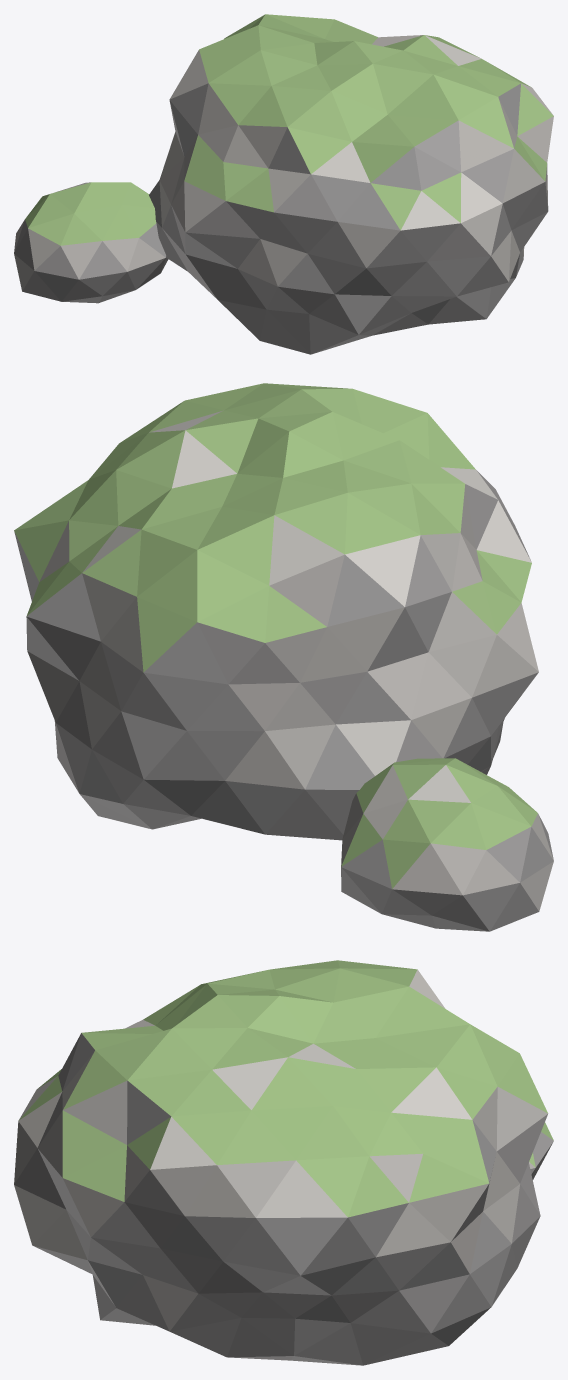
The model's file is MossyRock.glb.
The picture shows the model from 3 angles, top to bottom: view 1: azimuth 30°, elevation 25°; view 2: azimuth 150°, elevation 25°; view 3: azimuth 270°, elevation 25°; orthographic projection. The views are drawn at different scales.
Visible parts, largest first — view 1: MossyRock_Rock, MossyRock_Small; view 2: MossyRock_Rock, MossyRock_Small; view 3: MossyRock_Rock, MossyRock_Small.
Part boxes in pixels (x1=…): MossyRock_Rock: x1=149, y1=14, x2=553, y2=354; MossyRock_Small: x1=14, y1=182, x2=168, y2=303; MossyRock_Rock: x1=14, y1=383, x2=538, y2=840; MossyRock_Small: x1=341, y1=758, x2=553, y2=931; MossyRock_Rock: x1=14, y1=960, x2=548, y2=1365; MossyRock_Small: x1=529, y1=1122, x2=553, y2=1179.
Size of the model in its own units: 2.79 by 1.53 by 2.44.
